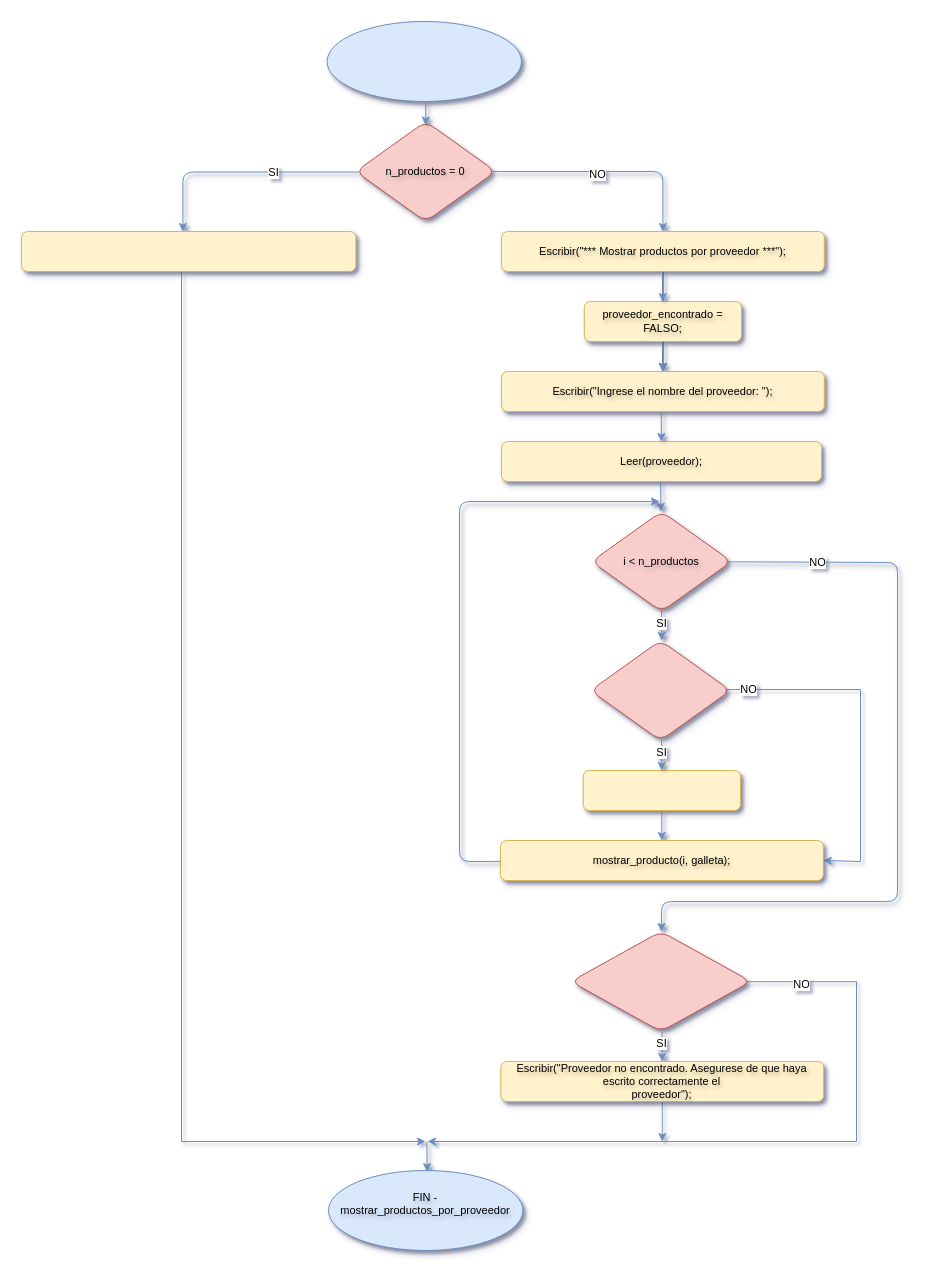
Some shapes in this 935 by 1281 pixel diagram are drawn without their labels. Here are the shapes that lost their labels. From the top down, the centre of each, then its label:
the point at 425,62: INICIO - mostrar_productos_por_proveedor
the point at 189,252: Escribir("El inventario esta vacio.");
the point at 661,692: proveedor = galleta[i].proveedor
the point at 662,792: proveedor_encontrado = VERDADERO;
the point at 661,982: proveedor_encontrado = FALSO
